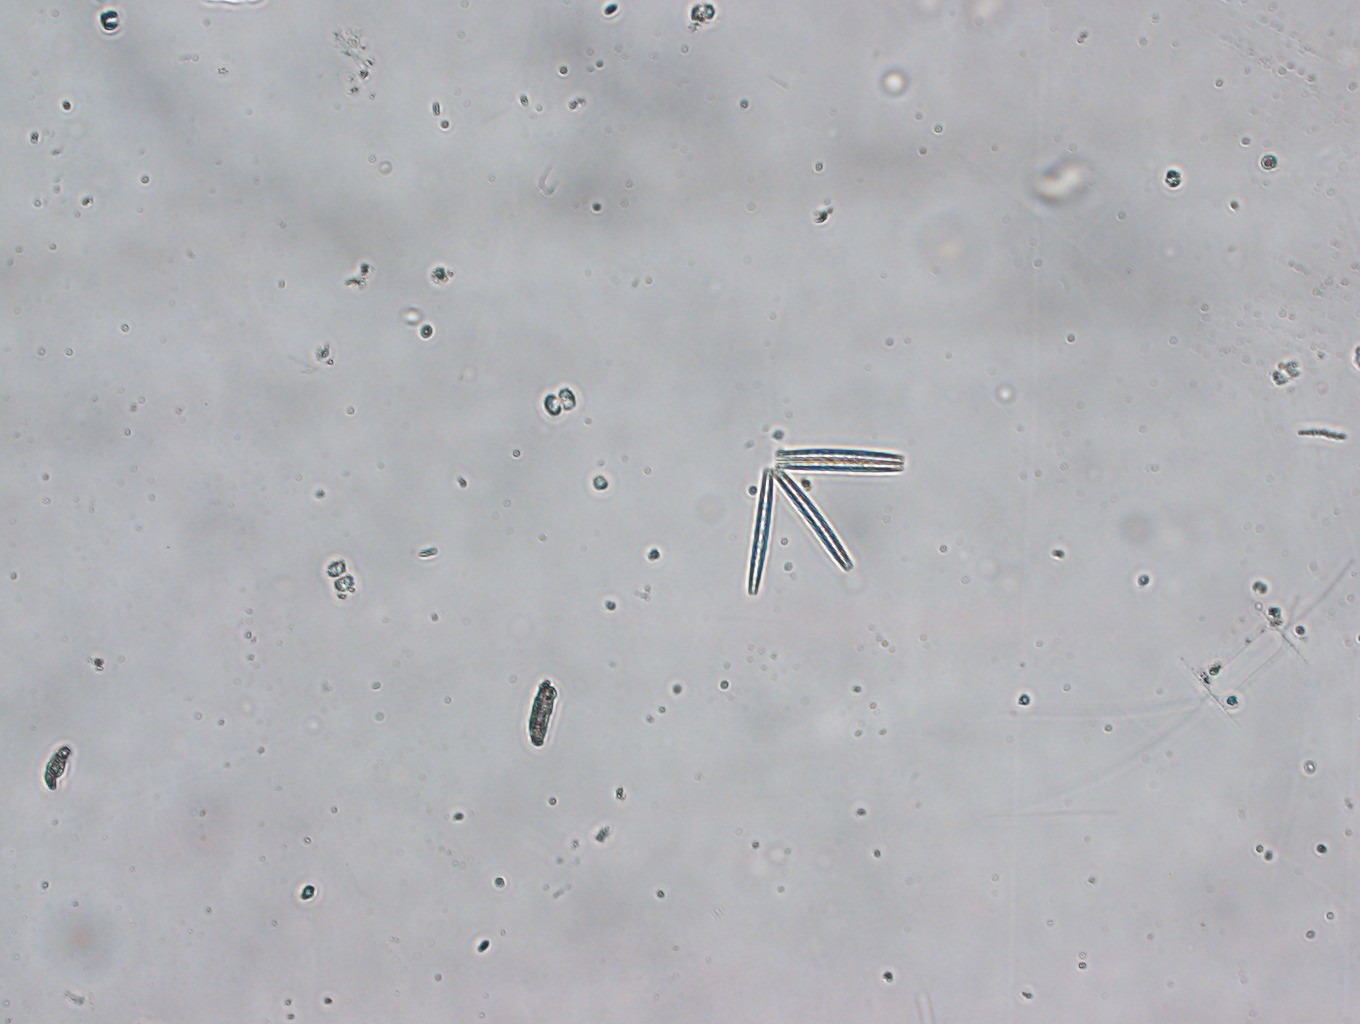thalassionema nitzschioides: (733, 429, 910, 601)
